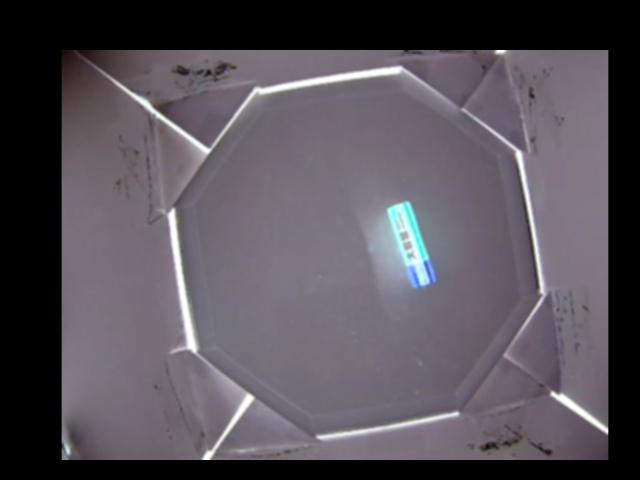Battery: (387, 200, 435, 288)
